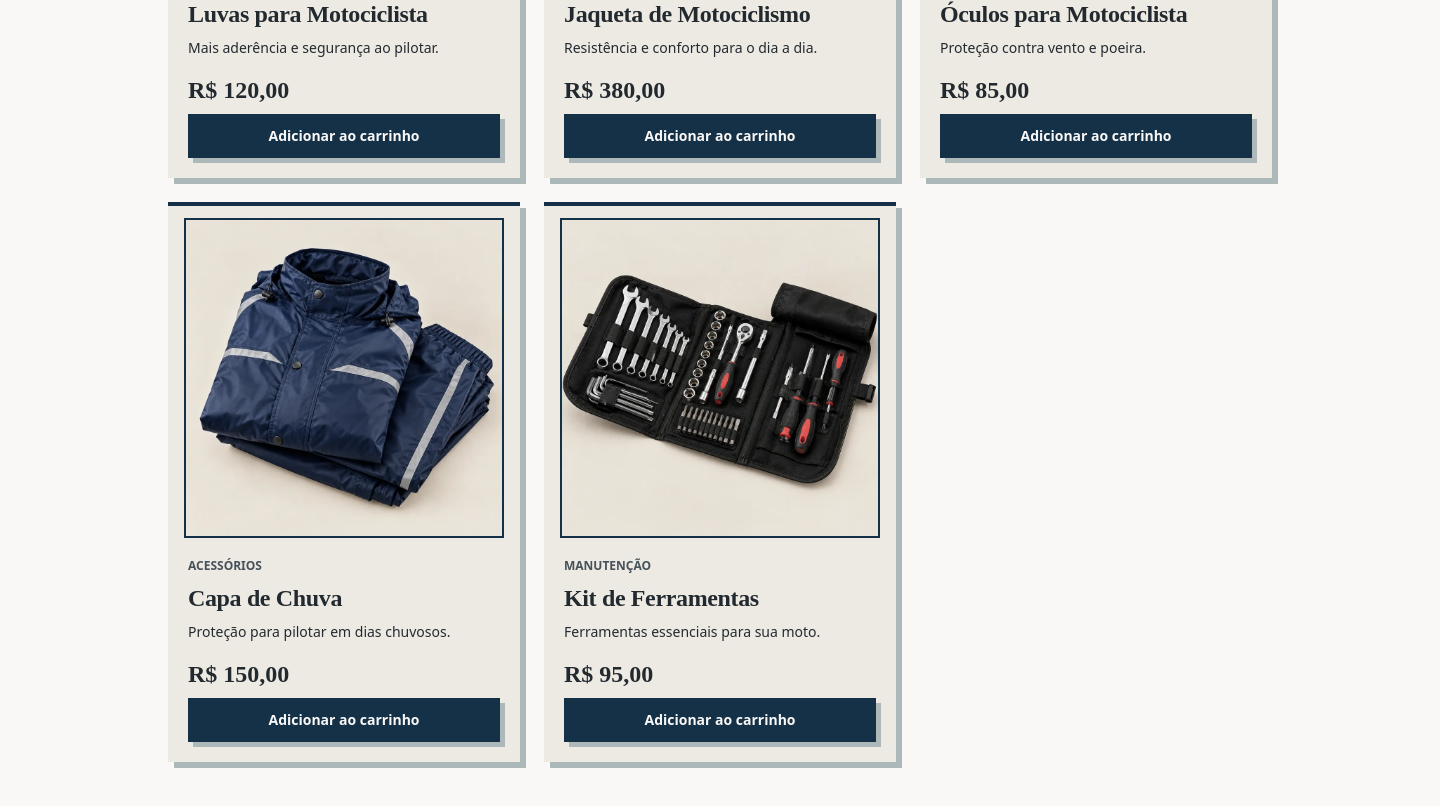
Test: Boutique · carrinho › aumenta, diminui (zero remove) e remove itens, com total certo em centavos
(page scrolled)
Click the button "Adicionar ao carrinho" below "R$ 95,00" at (720, 720), box [564,698,876,742]
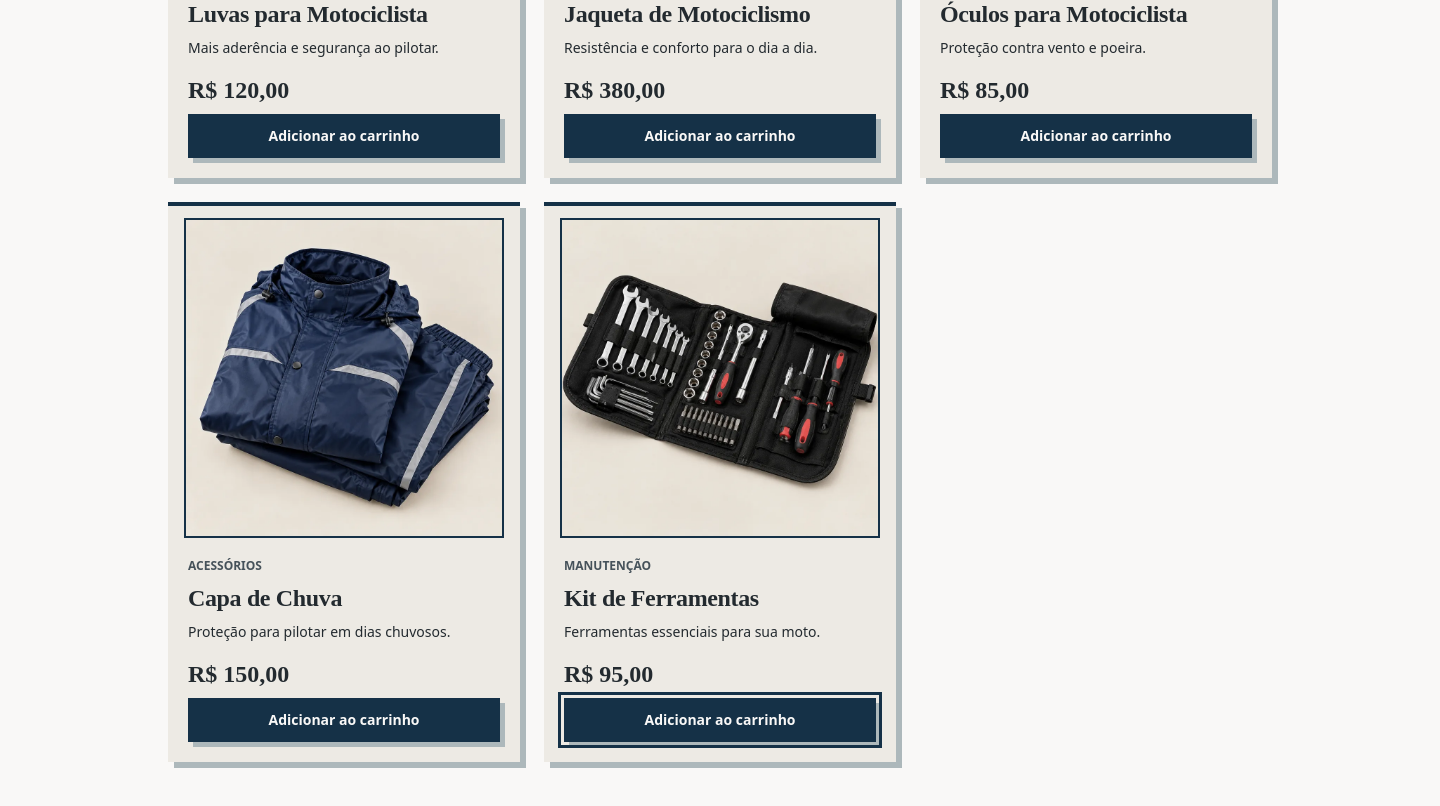
Click the button "Adicionar ao carrinho" below "R$ 120,00" at (344, 136), box [188,114,500,158]
(page scrolled)
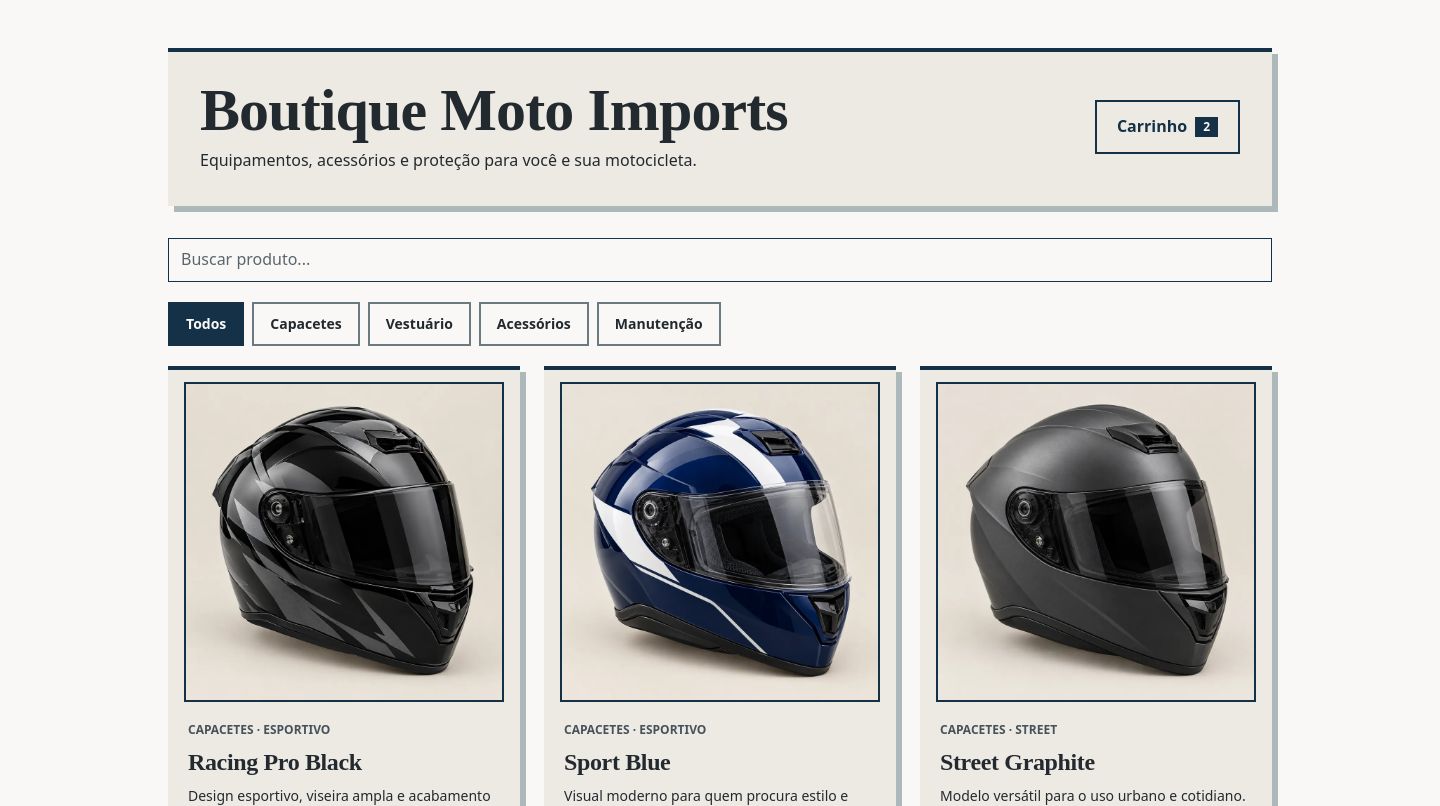
Click the button "Carrinho 2" at (1167, 127), box [1095,100,1240,154]
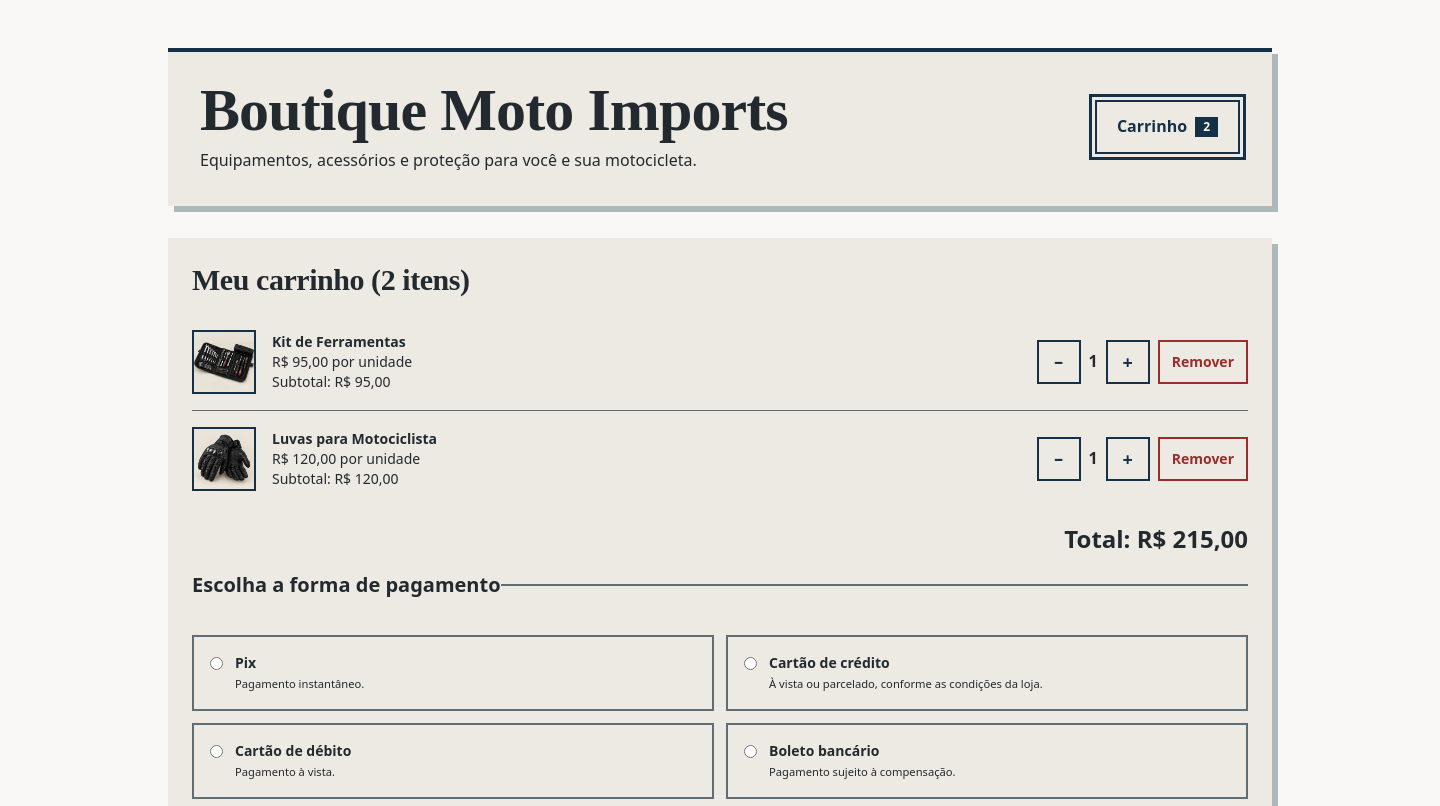
Click the button named "Aumentar quantidade de Kit de Ferramentas" at (1128, 362), box [1106,340,1150,384]
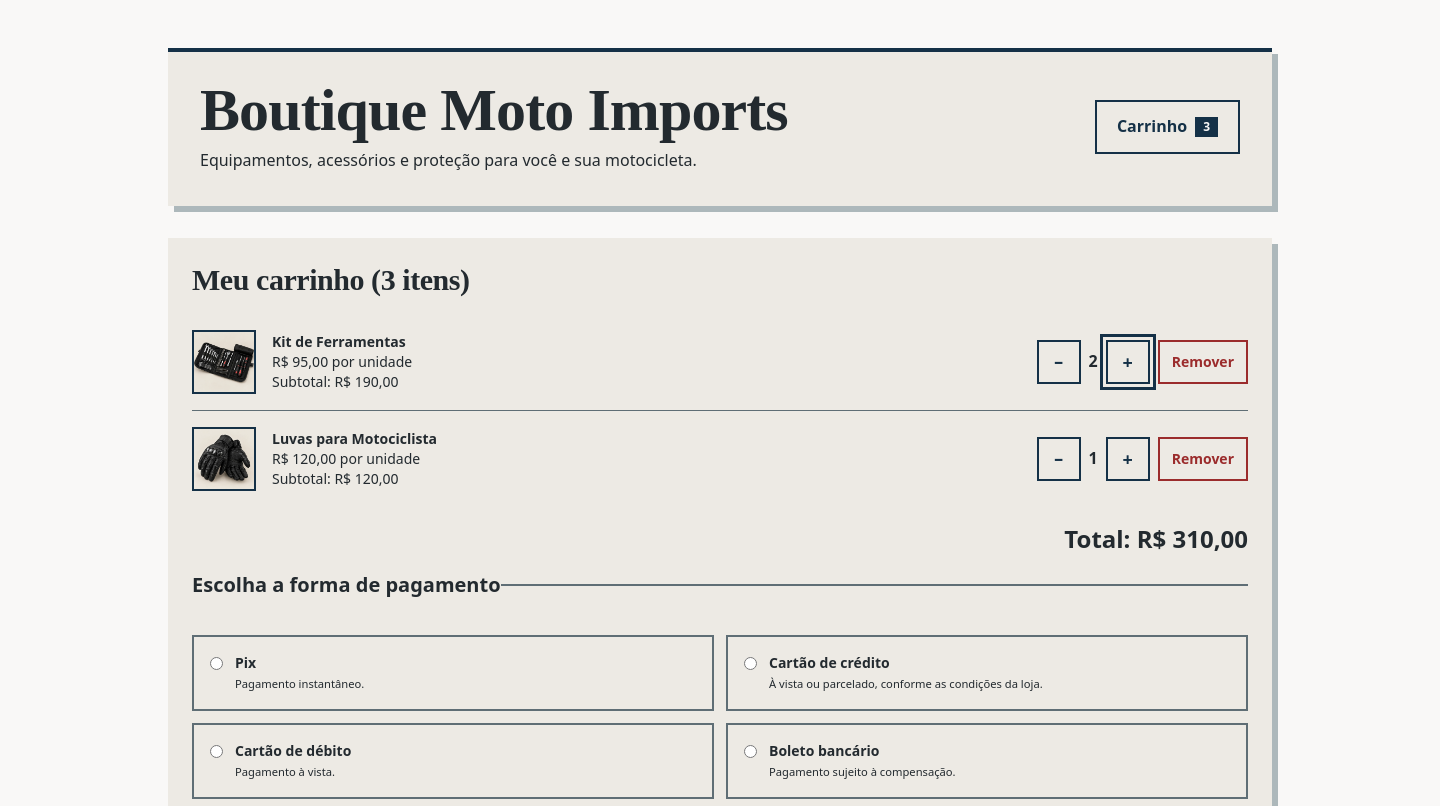
Result: the text "Total: R$ 310,00" is shown at [1064,522,1248,555]
Click the button named "Diminuir quantidade de Luvas para Motociclista" at (1059, 459), box [1037,437,1081,481]
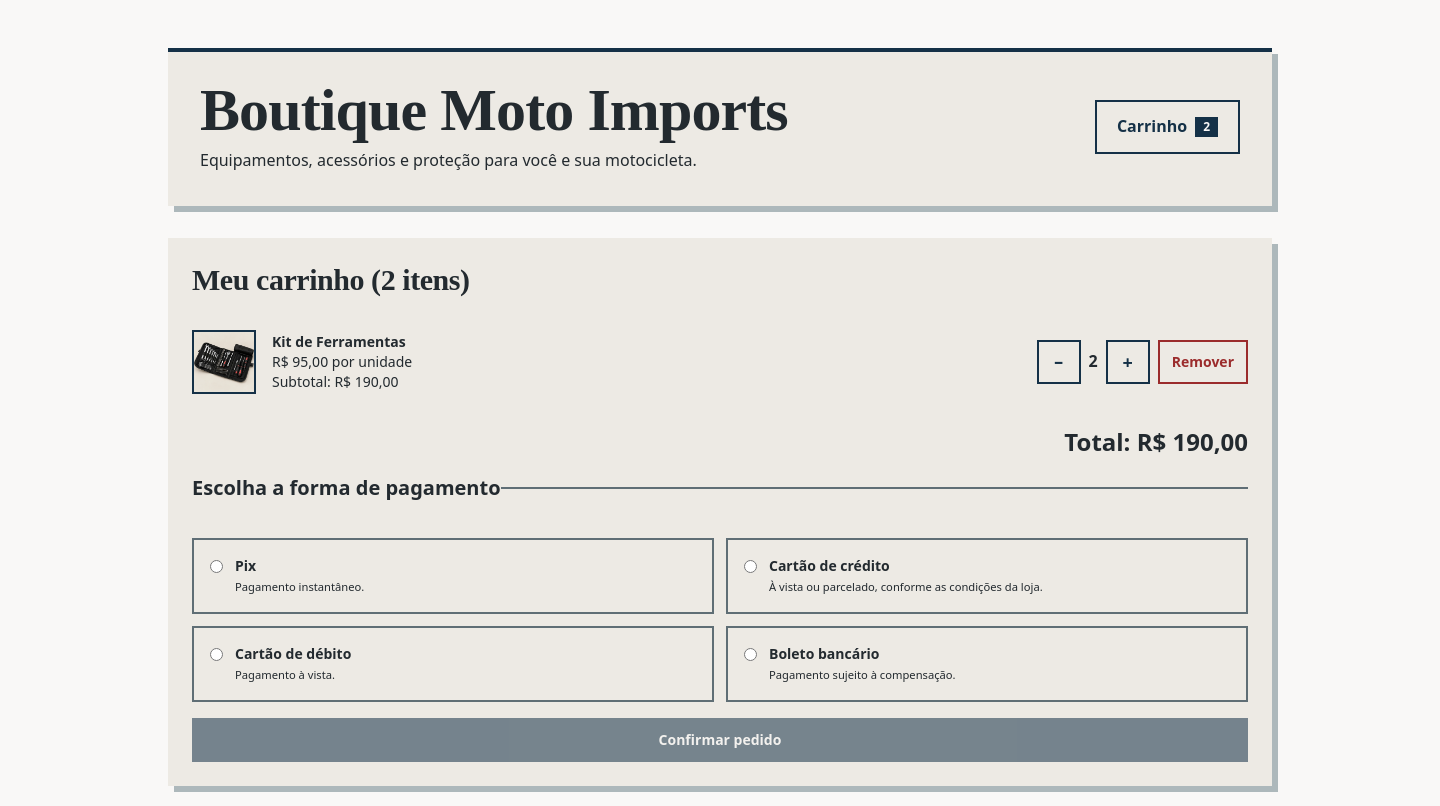
Expected: the text "Luvas para Motociclista" is not shown
Click the button with aria-label "Remover Kit de Ferramentas do carrinho" at (1203, 362), box [1158,340,1248,384]
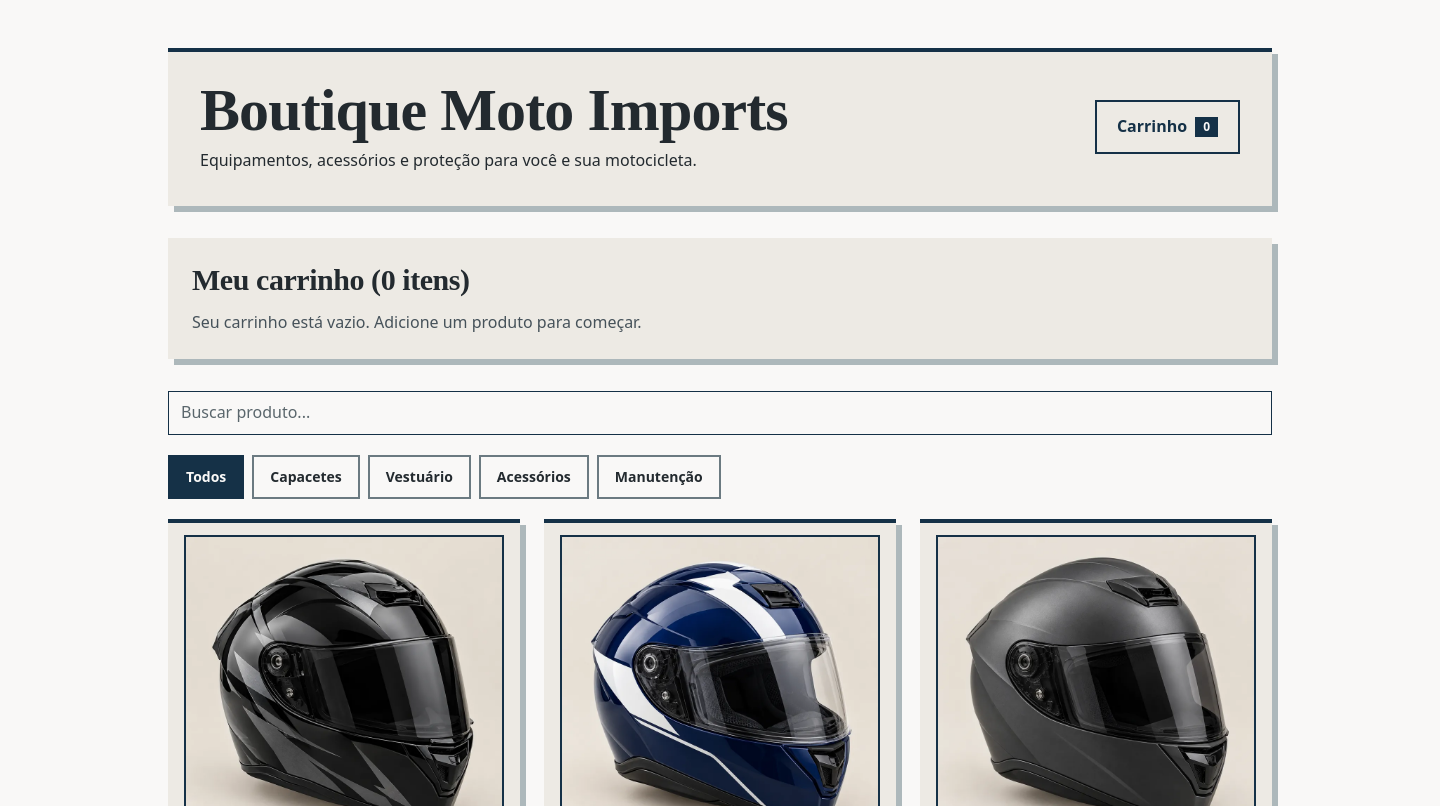
Result: the text "Seu carrinho está vazio. Adicione um produto para começar." is shown at [192,311,642,333]
